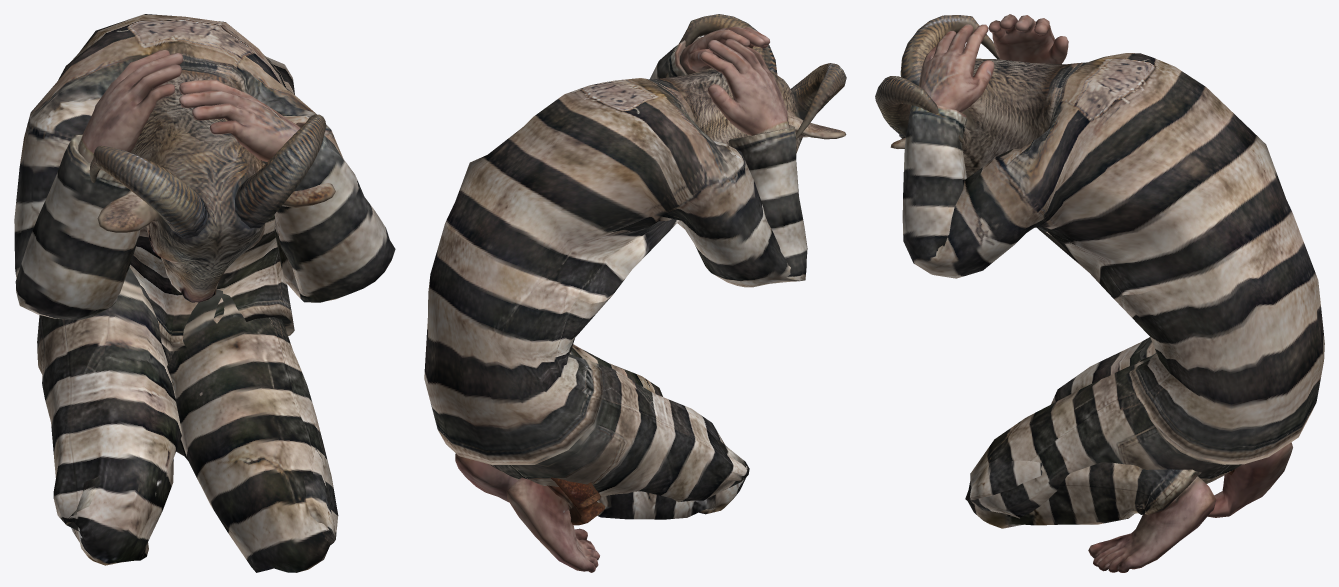
The model's file is Goatprisoner_Kneel.fbx.
The picture shows the model from 3 angles, left to right: view 1: azimuth 30°, elevation 25°; view 2: azimuth 150°, elevation 25°; view 3: azimuth 270°, elevation 25°; orthographic projection. The views are drawn at different scales.
Parts seen in each view (by area): view 1: tripo_node_b5010a8f; view 2: tripo_node_b5010a8f; view 3: tripo_node_b5010a8f.
Boxes of the visible parts, x1=… form: tripo_node_b5010a8f: x1=14, y1=14, x2=395, y2=572; tripo_node_b5010a8f: x1=424, y1=14, x2=846, y2=572; tripo_node_b5010a8f: x1=875, y1=14, x2=1324, y2=572.
Size of the model in its own units: 163 by 212 by 248.
